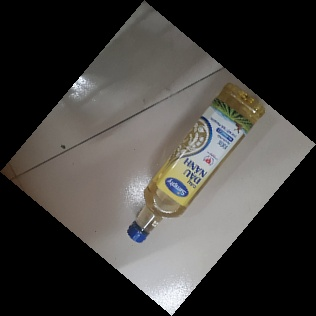Simply: (126, 81, 265, 244)
